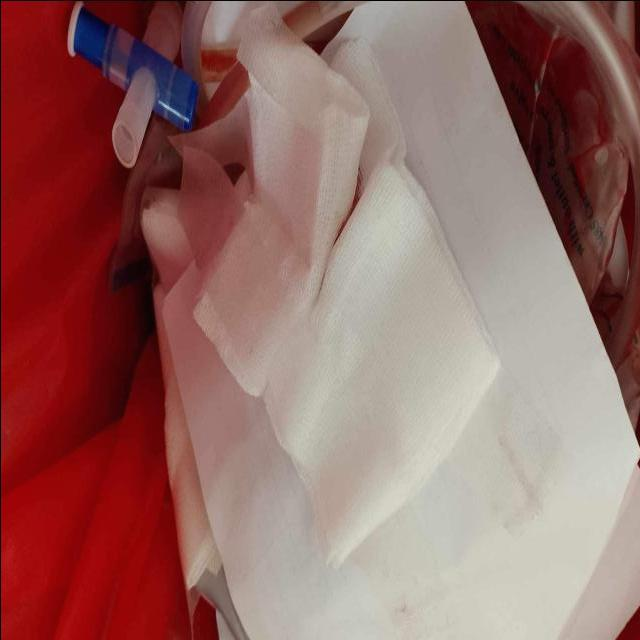General: (464, 2, 640, 438)
Pathological: (133, 2, 639, 637)
Sharps: (66, 1, 200, 131)
